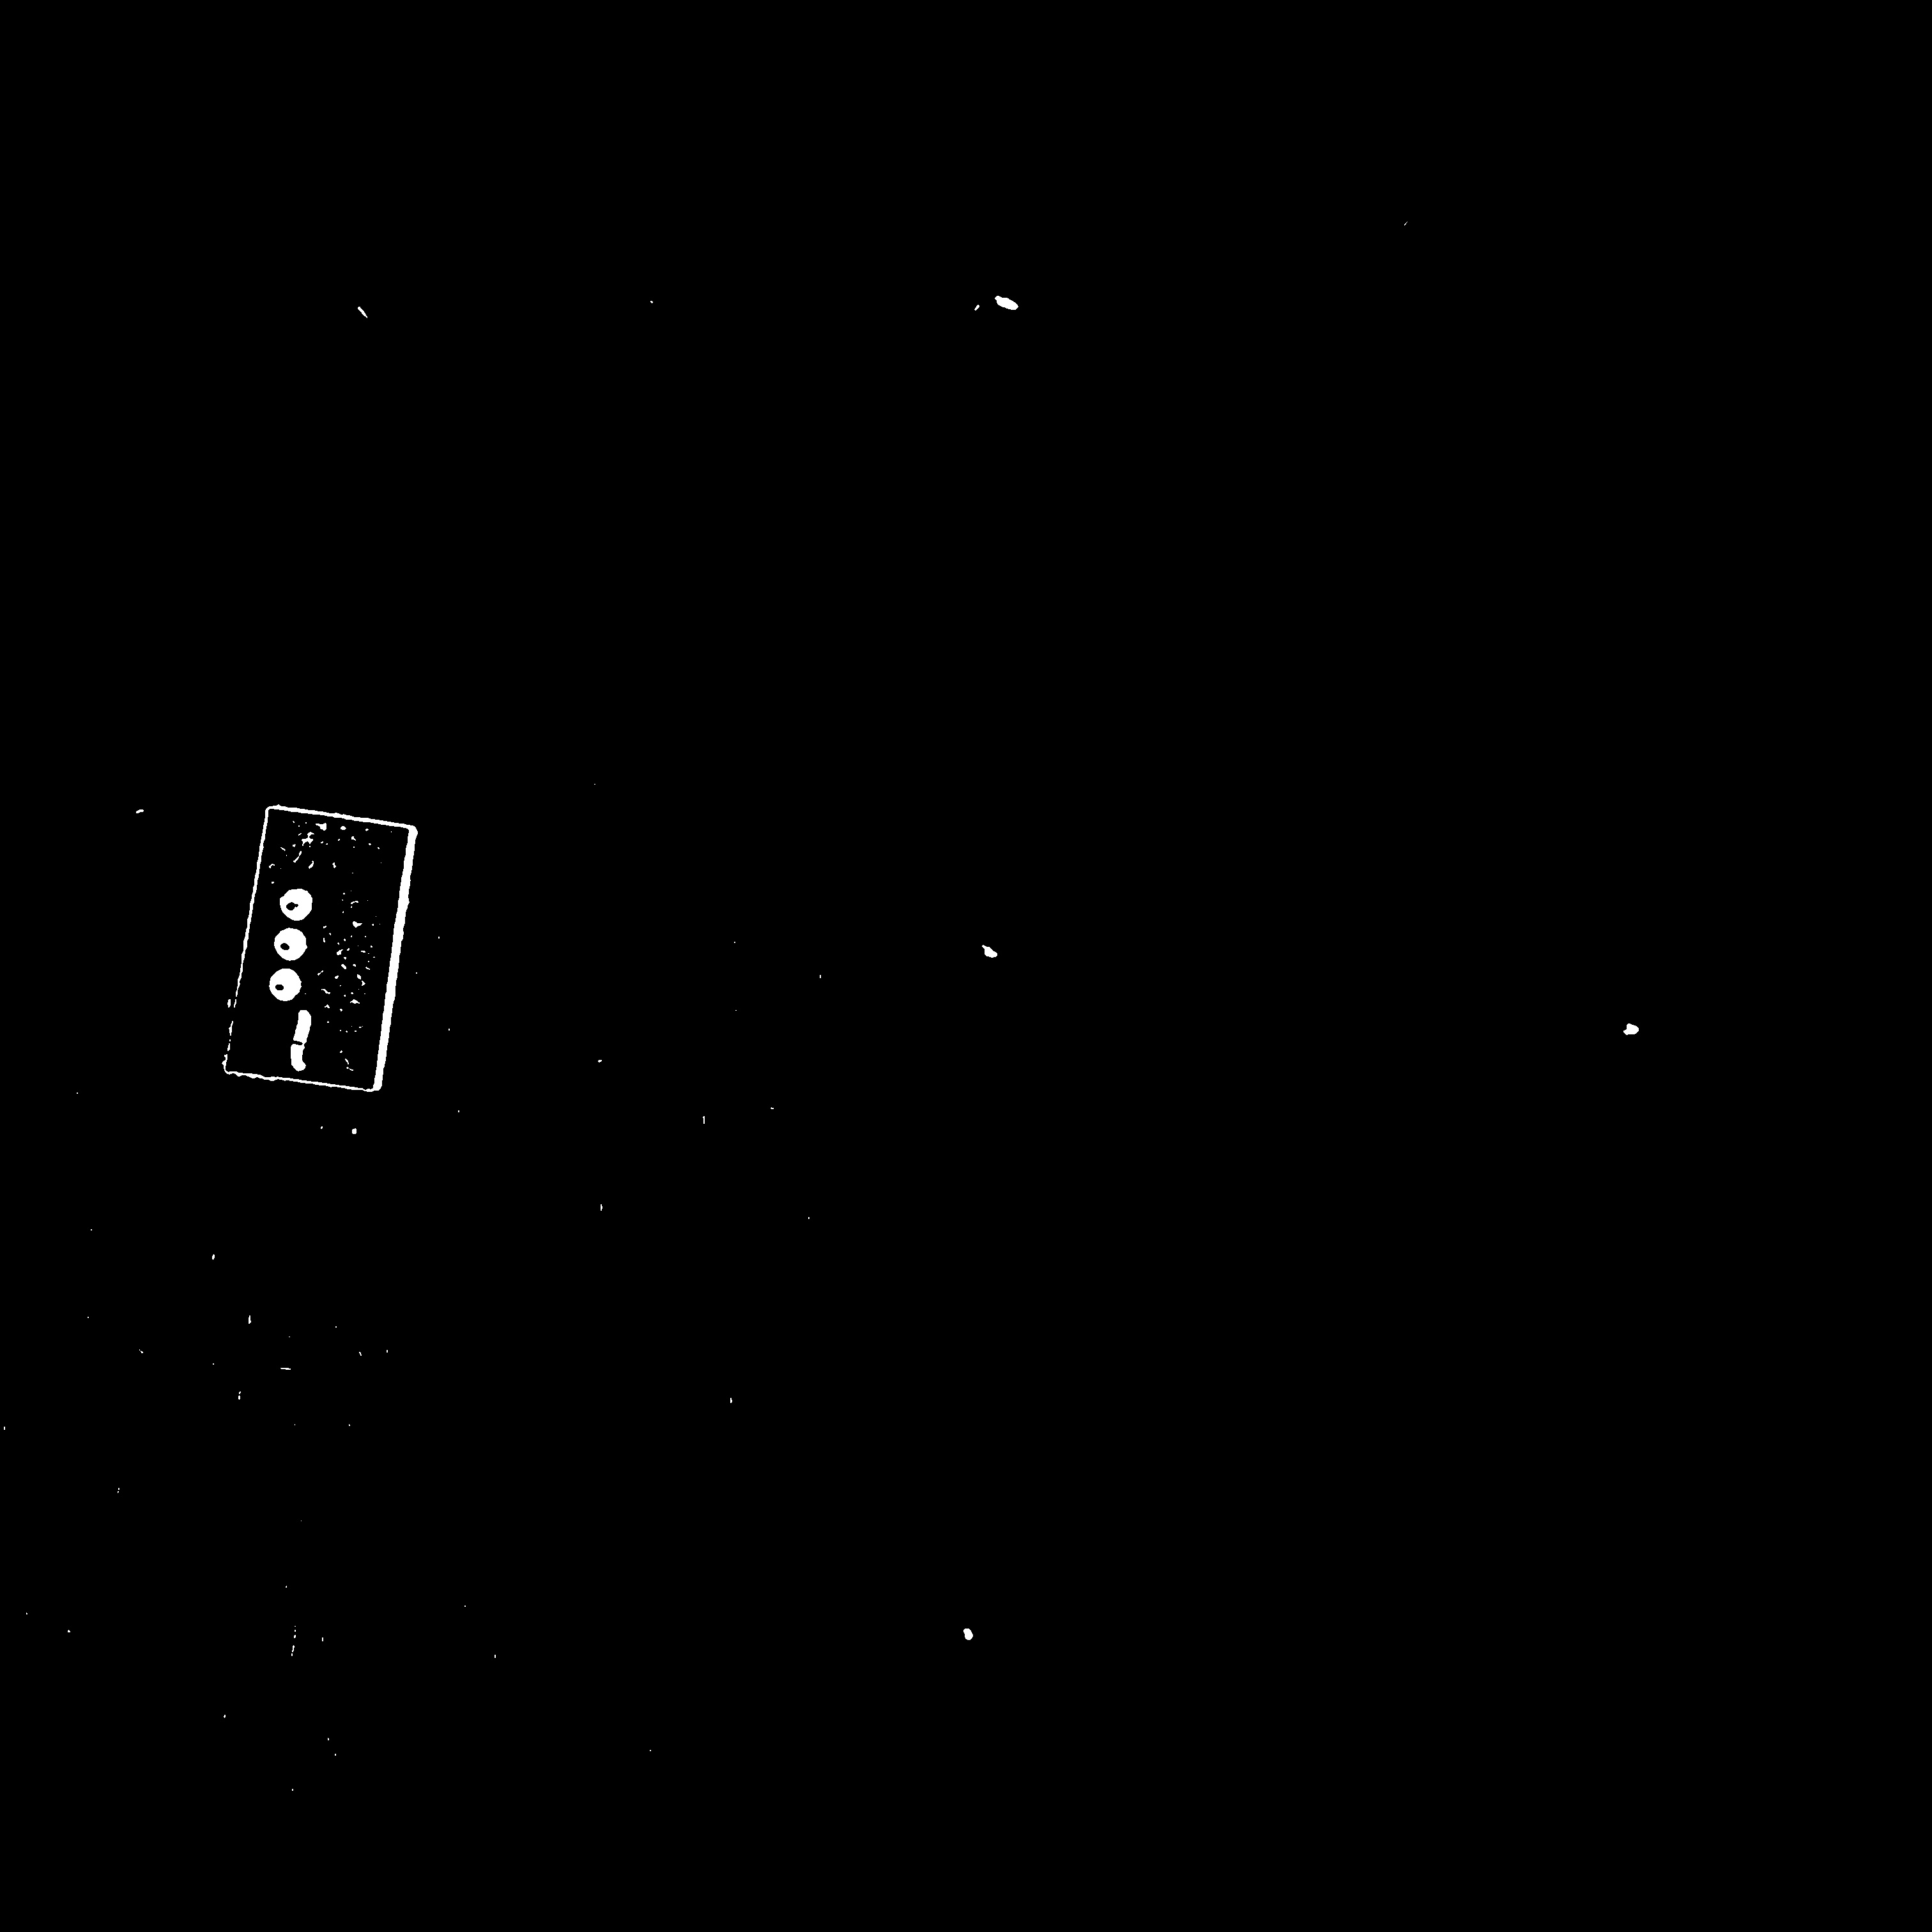l: (265, 880, 362, 1013)
